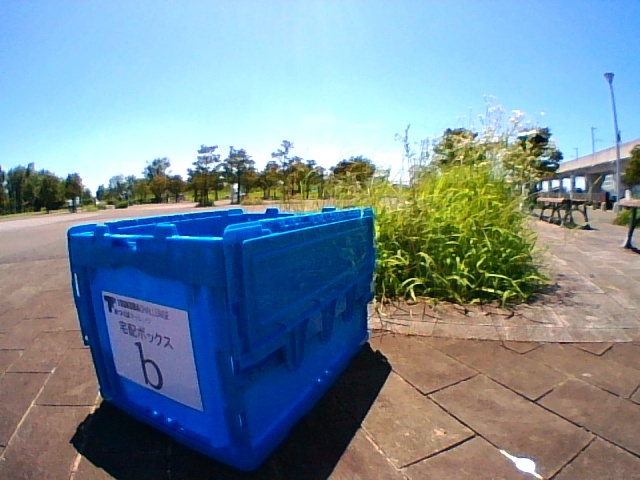blue_box: (68, 210, 368, 408)
tag_b: (118, 311, 182, 390)
